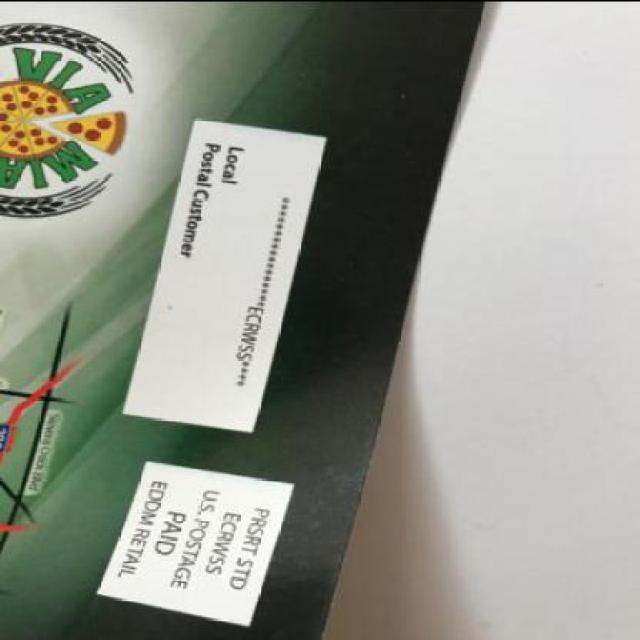PAPER: (1, 1, 488, 638)
